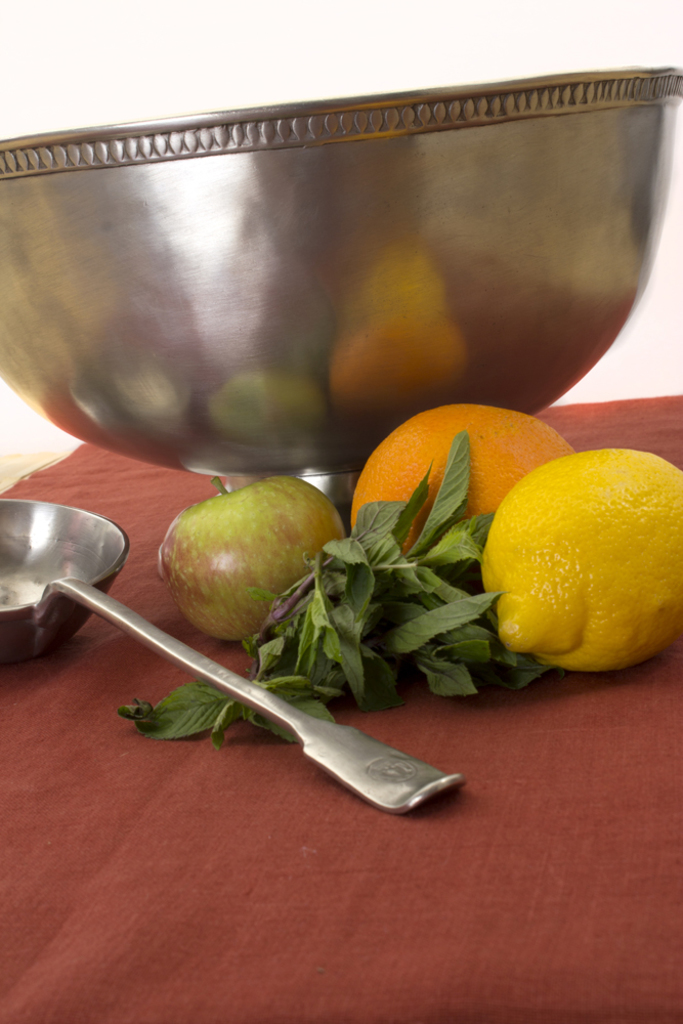Apple: (156, 468, 339, 640)
